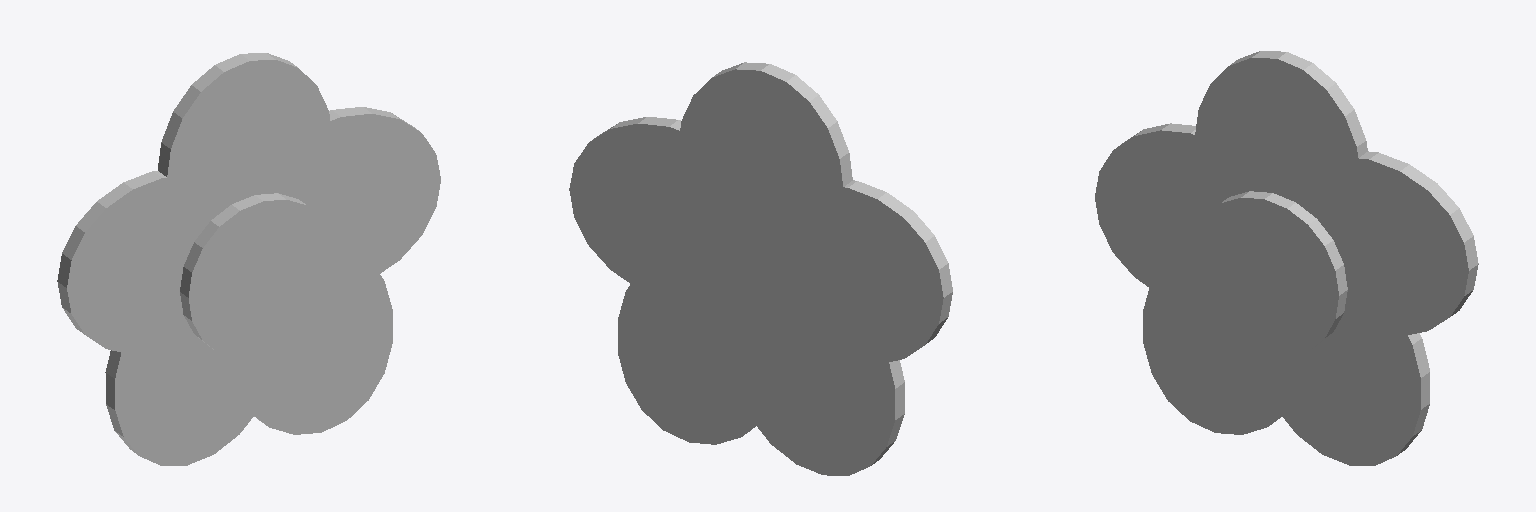
Rendered from orangeflower.obj.
3 renders of one model, left to right at view 1: azimuth 30°, elevation 25°; view 2: azimuth 150°, elevation 25°; view 3: azimuth 330°, elevation 25°, orthographic.
Visible parts, largest first — view 1: obj_0; view 2: obj_0; view 3: obj_0.
Part boxes in pixels (x1,y1,x2,y2): obj_0: (57, 53, 440, 465); obj_0: (569, 62, 952, 475); obj_0: (1095, 51, 1478, 465).
Size of the model in its own units: 26.16 by 26 by 2.79.